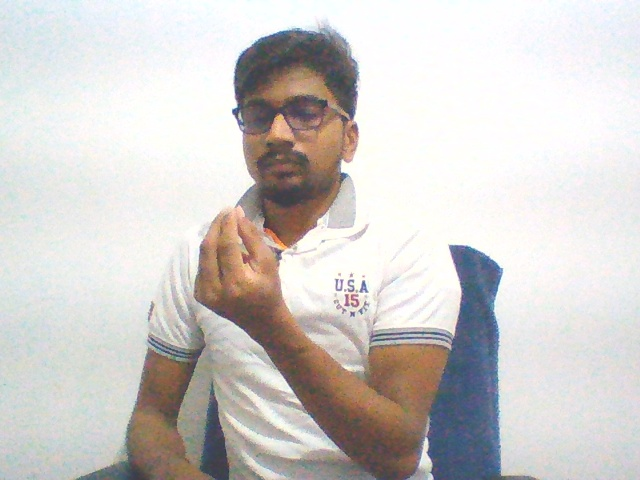dog: (184, 188, 292, 335)
